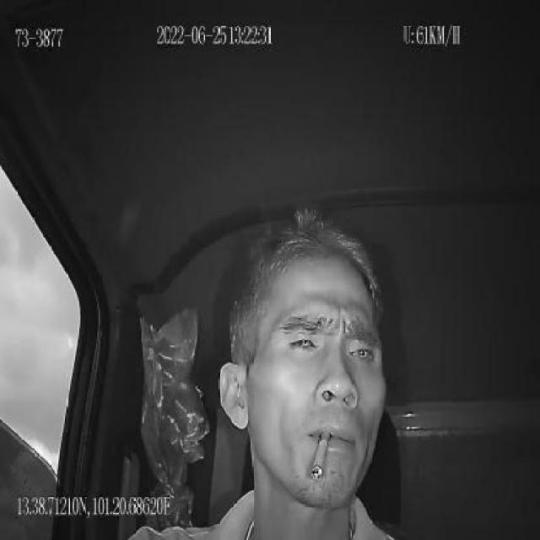smoking: (311, 430, 330, 483)
